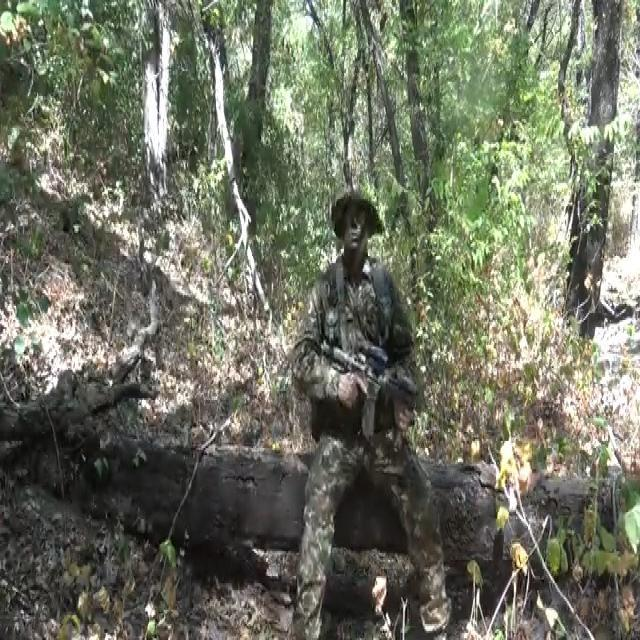MIL_Pax: (294, 193, 450, 638)
